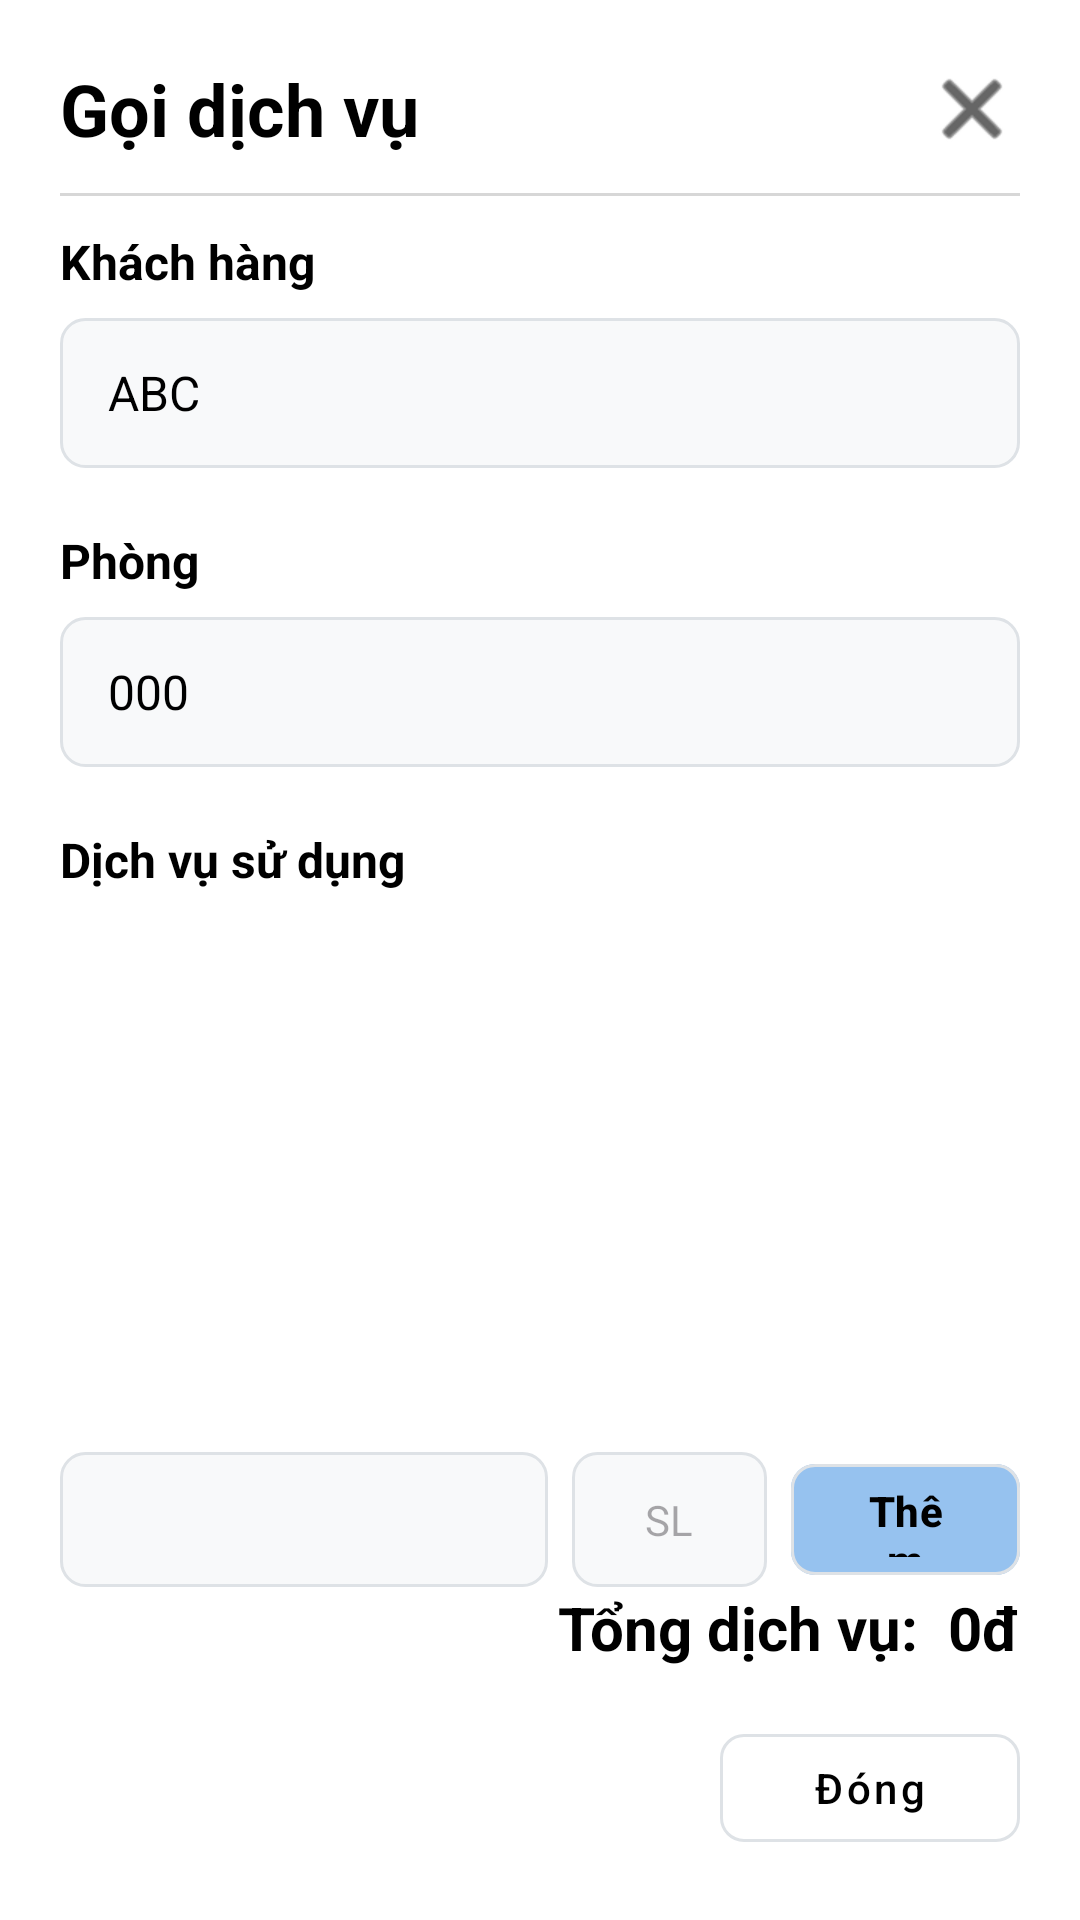

Icon bounding boxes for this 1080 × 1920 phone screenshot, format [left=x1, top=y1, right=x2, bottom=y2]:
close clear cancel: [left=942, top=79, right=1002, bottom=139]
